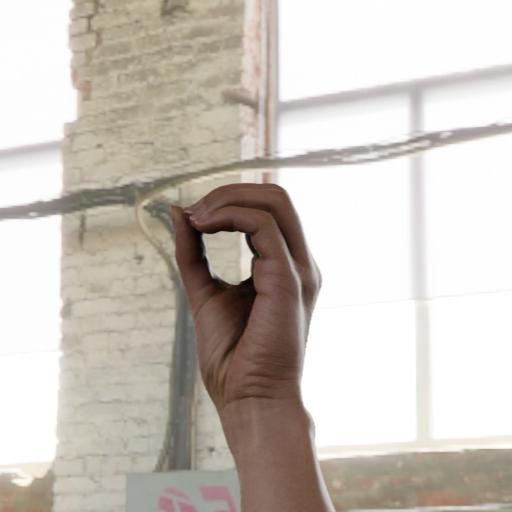O: (156, 145, 368, 461)
